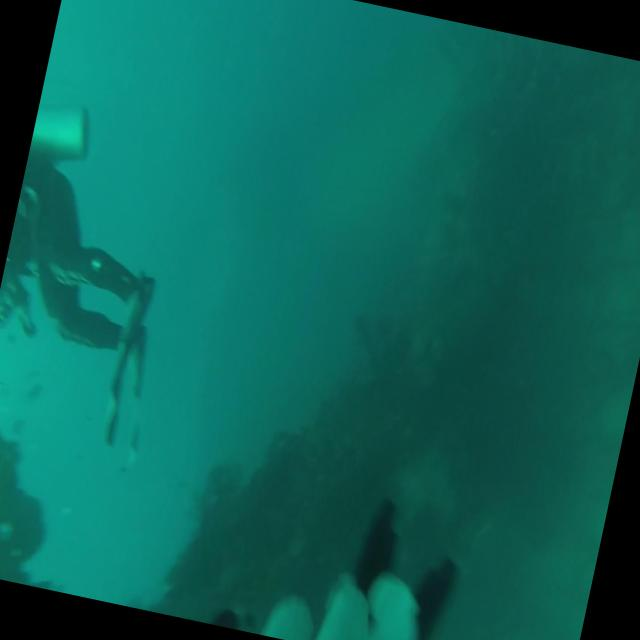human: (0, 95, 205, 464)
